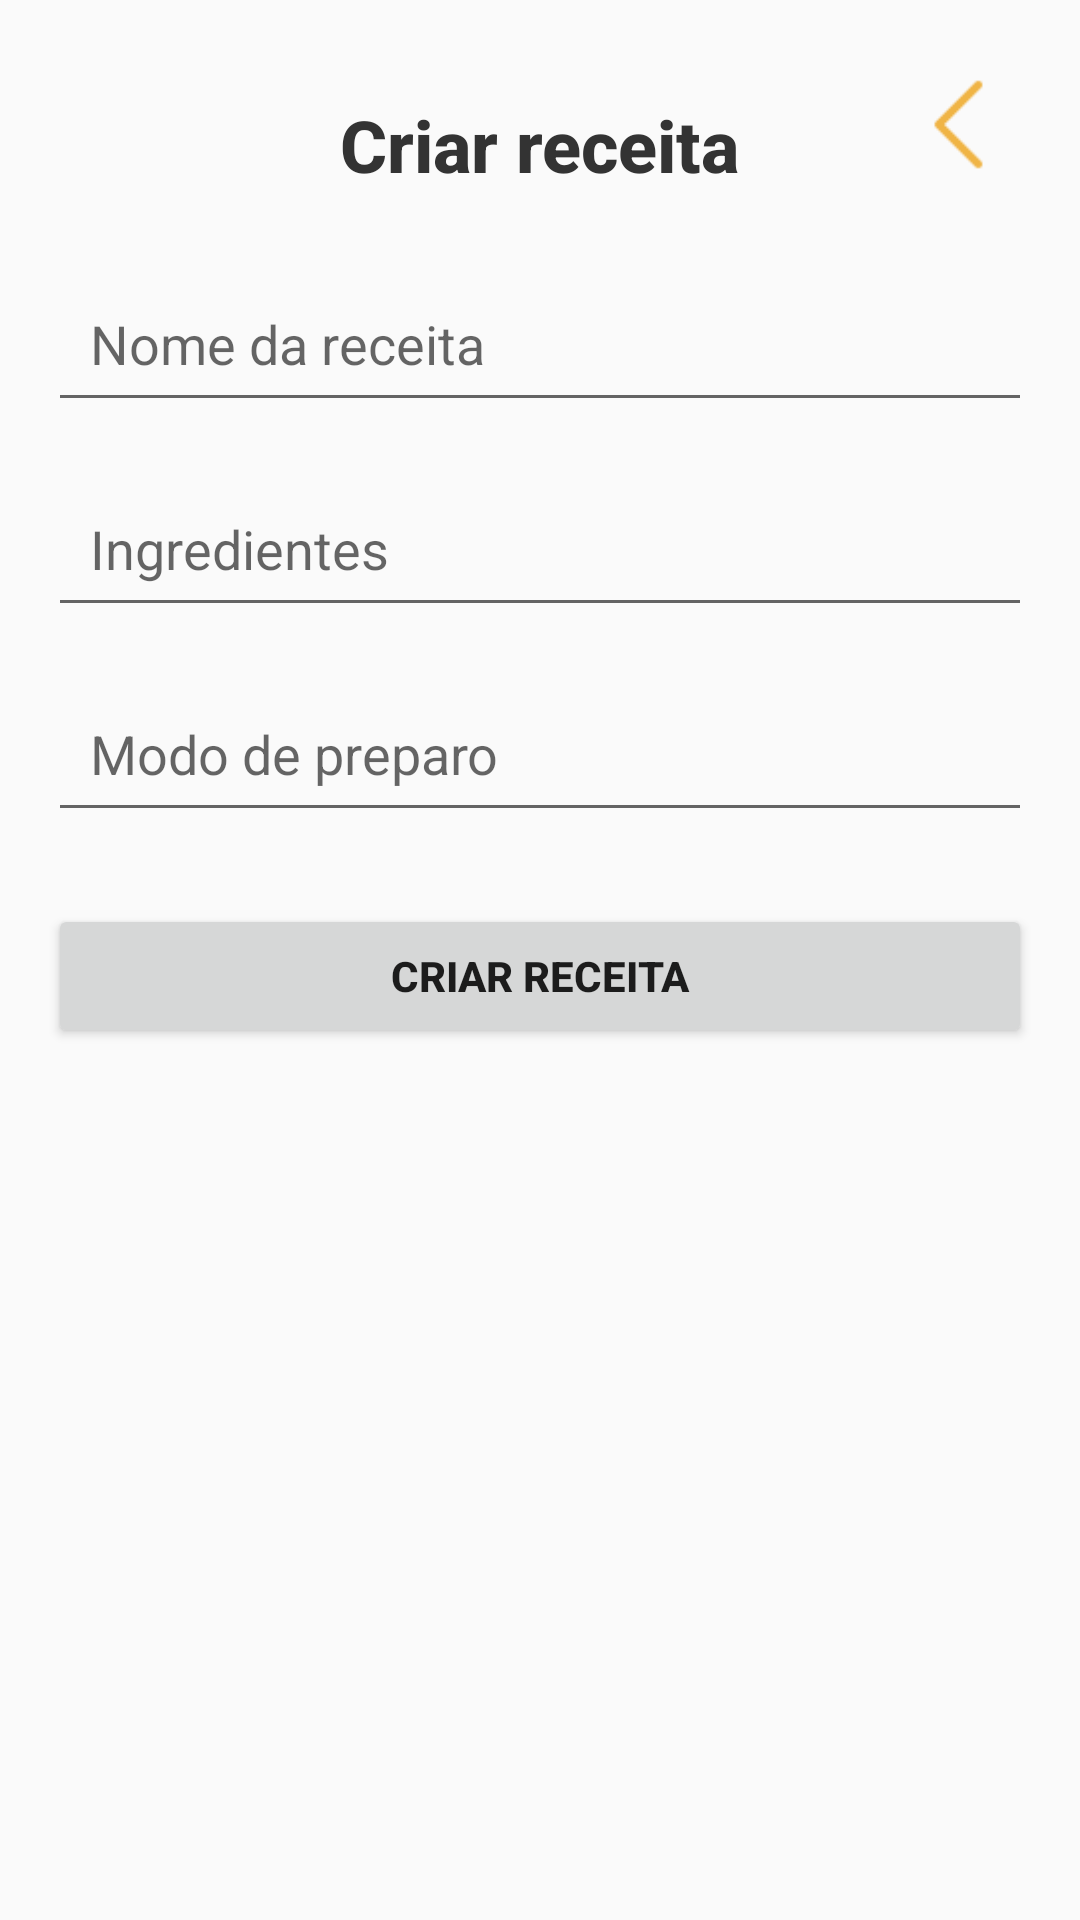

Icon bounding boxes for this 1080 × 1920 phone screenshot, format (x1, y1, x2, y2):
Botão de voltar: (934, 80, 983, 169)
